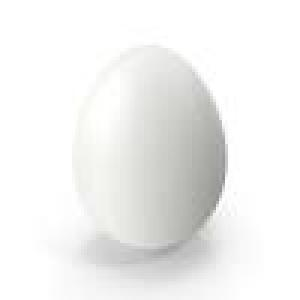Egg: (70, 41, 232, 257)
